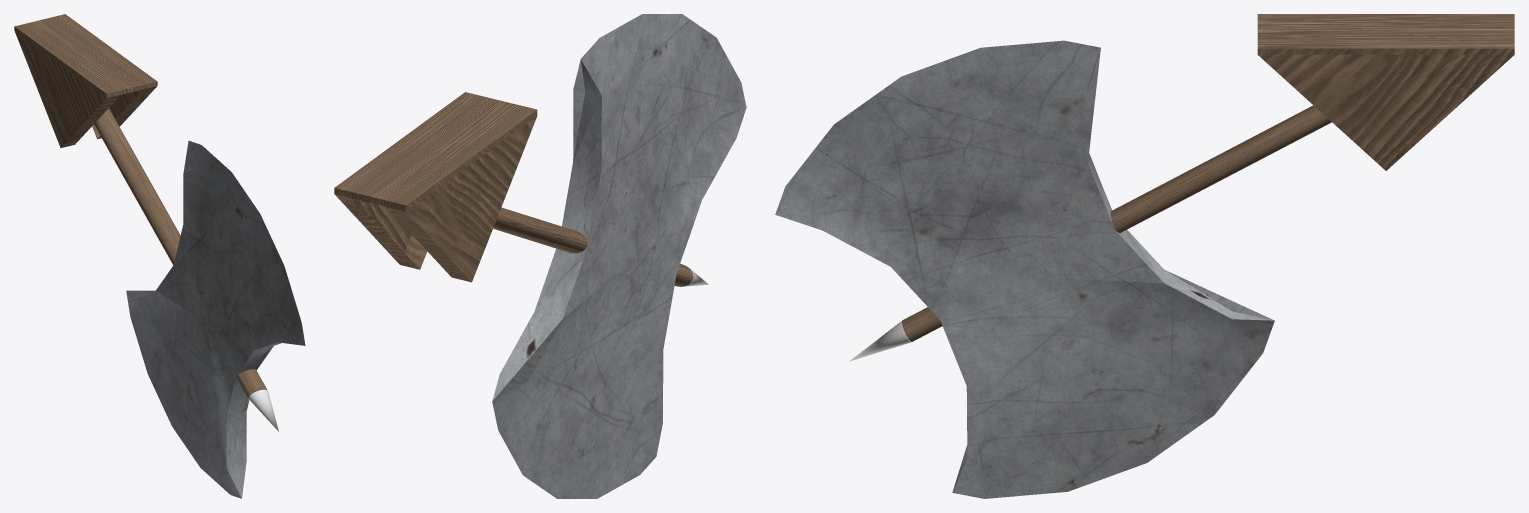
Rendered from Axe Trap.fbx.
3 views of the same model, side by side, from view 1: azimuth 30°, elevation 25°; view 2: azimuth 150°, elevation 25°; view 3: azimuth 270°, elevation 25° (orthographic). The views are drawn at different scales.
Parts seen in each view (by area): view 1: AxeBlade, AxePivot, AxeHandle, TopAxeSpike; view 2: AxeBlade, AxePivot, AxeHandle; view 3: AxeBlade, AxePivot, AxeHandle.
Boxes of the visible parts, box(x1,y1,x2,y2) form: AxeBlade: box(126, 140, 305, 498); AxePivot: box(14, 14, 157, 147); AxeHandle: box(94, 108, 267, 398); TopAxeSpike: box(248, 389, 278, 431); AxeBlade: box(492, 14, 746, 498); AxePivot: box(334, 92, 537, 282); AxeHandle: box(493, 207, 693, 286); AxeBlade: box(775, 40, 1274, 498); AxePivot: box(1257, 14, 1514, 170); AxeHandle: box(902, 105, 1331, 341).
Size of the model in its own units: 0.4495 by 2.84 by 4.07.
3 materials, 2 textured.
